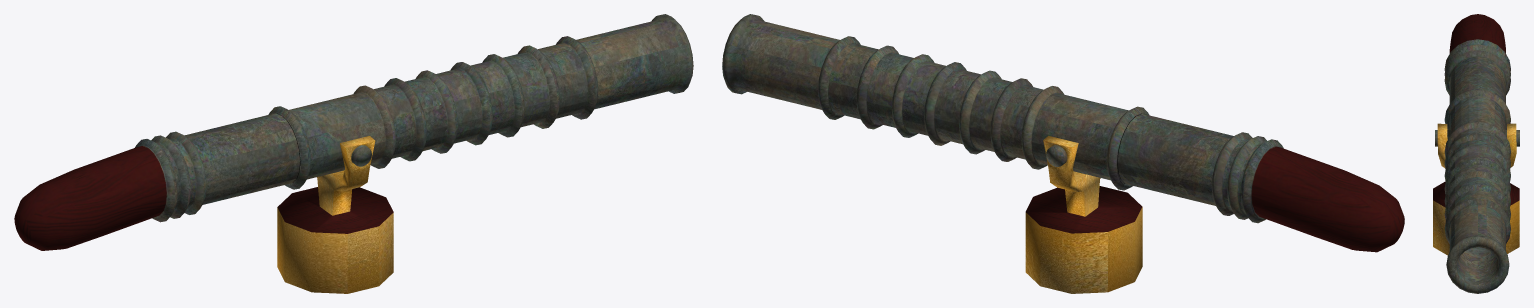
File: junkCannon.fbx
3 renders of one model, left to right at view 1: azimuth 30°, elevation 25°; view 2: azimuth 150°, elevation 25°; view 3: azimuth 270°, elevation 25°, orthographic. The views are drawn at different scales.
Parts seen in each view (by area): view 1: pCylinder5, pCube3; view 2: pCylinder5, pCube3; view 3: pCylinder5, pCube3.
Part boxes in pixels (x1,y1,x2,y2): pCylinder5: (14,14,693,250); pCube3: (277,135,393,293); pCylinder5: (722,14,1404,252); pCube3: (1025,135,1142,293); pCylinder5: (1435,14,1519,293); pCube3: (1433,123,1519,255).
Bounding box in the file's own units: 21.26 × 5.29 × 3.12.
